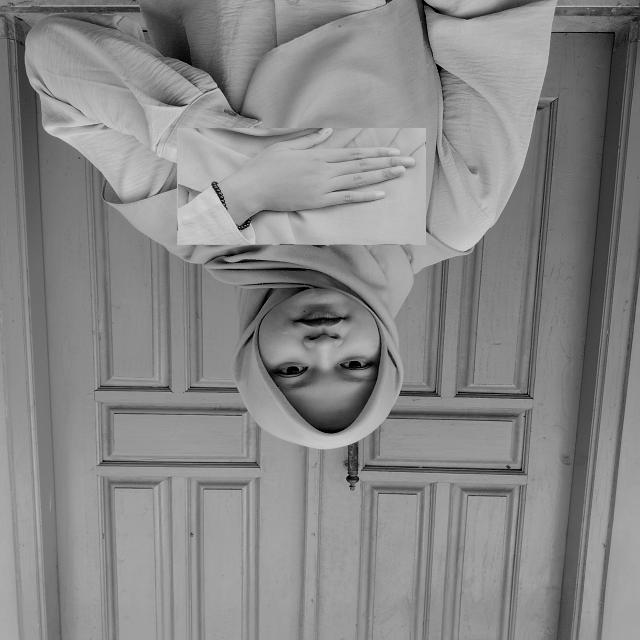tolong: (177, 128, 426, 245)
